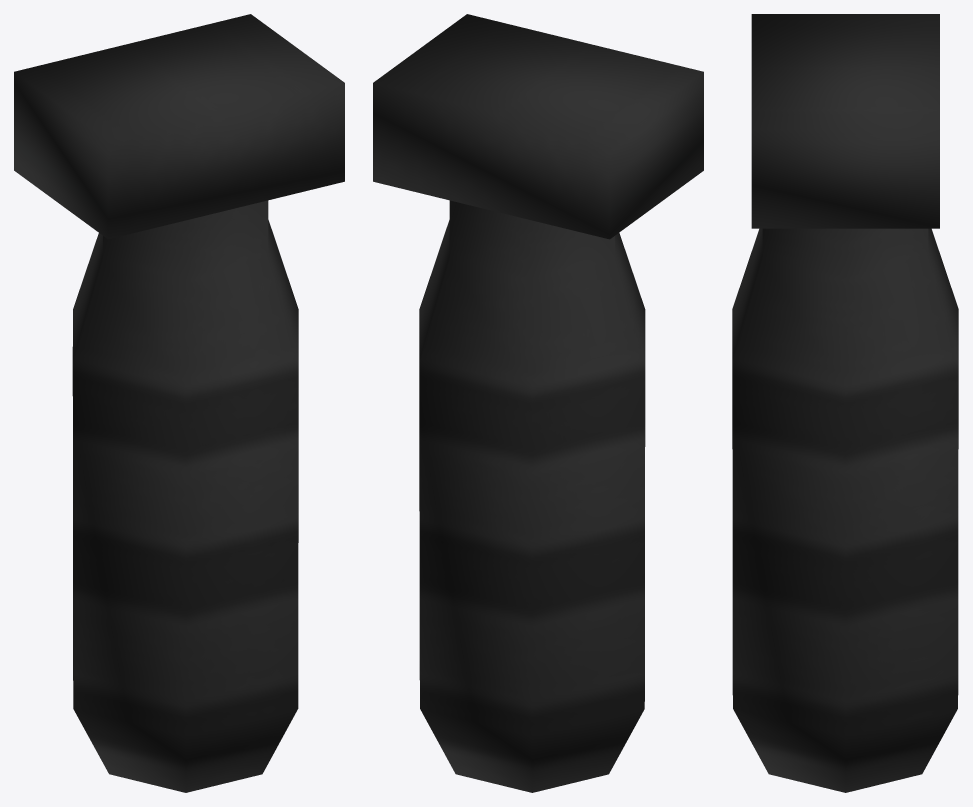
File: Grips_Vertical_Base_0_Mod.FBX
The picture shows the model from 3 angles, left to right: view 1: azimuth 30°, elevation 25°; view 2: azimuth 150°, elevation 25°; view 3: azimuth 270°, elevation 25°; orthographic projection.
Parts seen in each view (by area): view 1: Grips_Vertical_Base_0_Mod; view 2: Grips_Vertical_Base_0_Mod; view 3: Grips_Vertical_Base_0_Mod.
Boxes of the visible parts, x1,y1,x2,y2 form: Grips_Vertical_Base_0_Mod: (14, 14, 344, 792); Grips_Vertical_Base_0_Mod: (373, 14, 703, 792); Grips_Vertical_Base_0_Mod: (732, 14, 958, 792).
Size of the model in its own units: 4.68 by 12.79 by 3.85.
